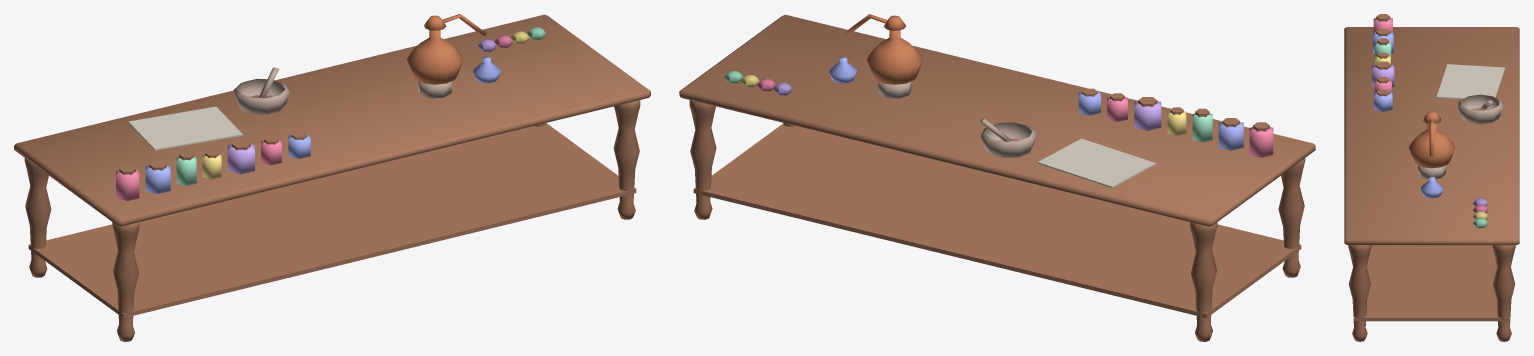
The model's file is stillroom_bench.glb.
3 renders of one model, left to right at view 1: azimuth 30°, elevation 25°; view 2: azimuth 150°, elevation 25°; view 3: azimuth 270°, elevation 25°, orthographic. The views are drawn at different scales.
Visible parts, largest first — view 1: stillroom_bench; view 2: stillroom_bench; view 3: stillroom_bench.
Part boxes in pixels (left/top/right/bottom): stillroom_bench: left=14, top=14, right=650, bottom=341; stillroom_bench: left=679, top=14, right=1315, bottom=341; stillroom_bench: left=1344, top=14, right=1519, bottom=341.
Size of what is drawn, in the model's own units: 2.6 by 0.95 by 0.9.
